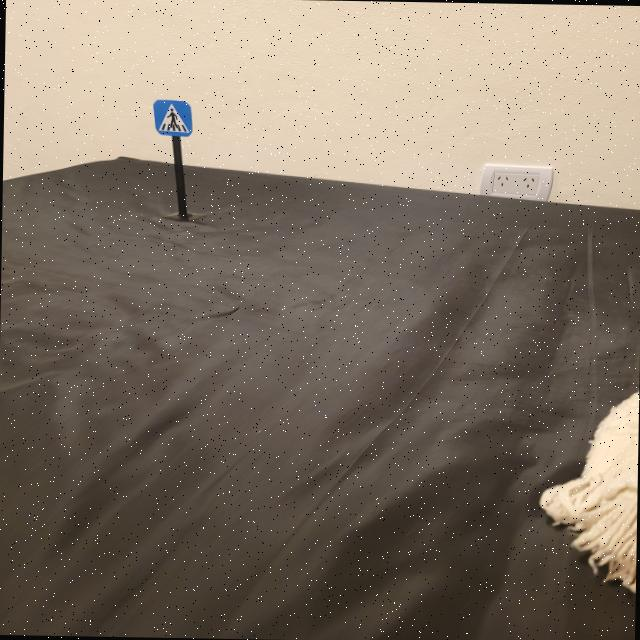crosswalk: (152, 99, 195, 137)
